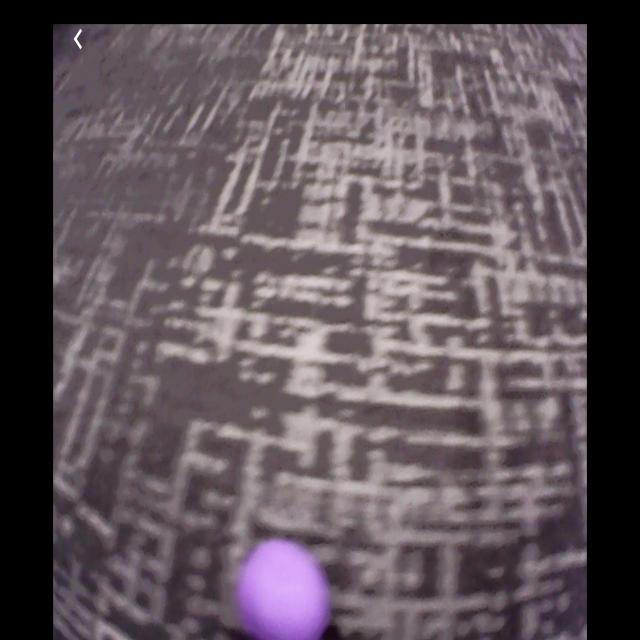ball: (240, 539, 331, 640)
